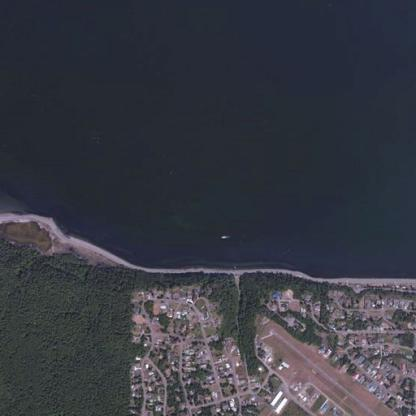ship: (218, 235, 223, 238)
